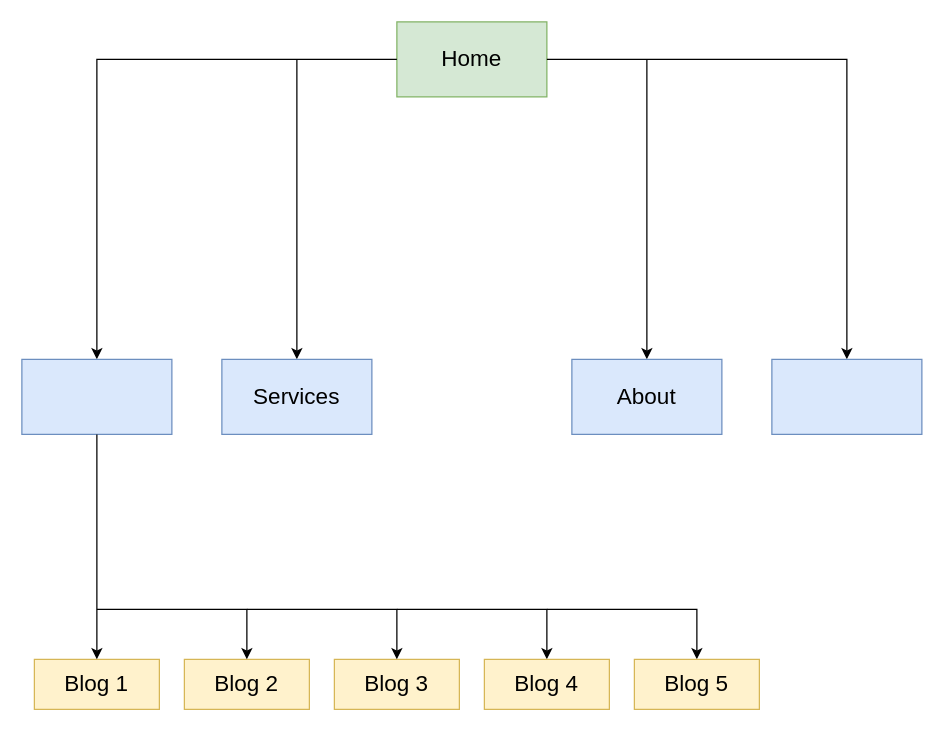
The diagram is 944 pixels wide and 731 high, and some of its shapes have lost their labels. The shapes that lost their labels are listed below. From the top down, each one's centre as x and y in pixels, then its label:
At (x=96, y=396): "Blog".
At (x=846, y=396): "Contact".
